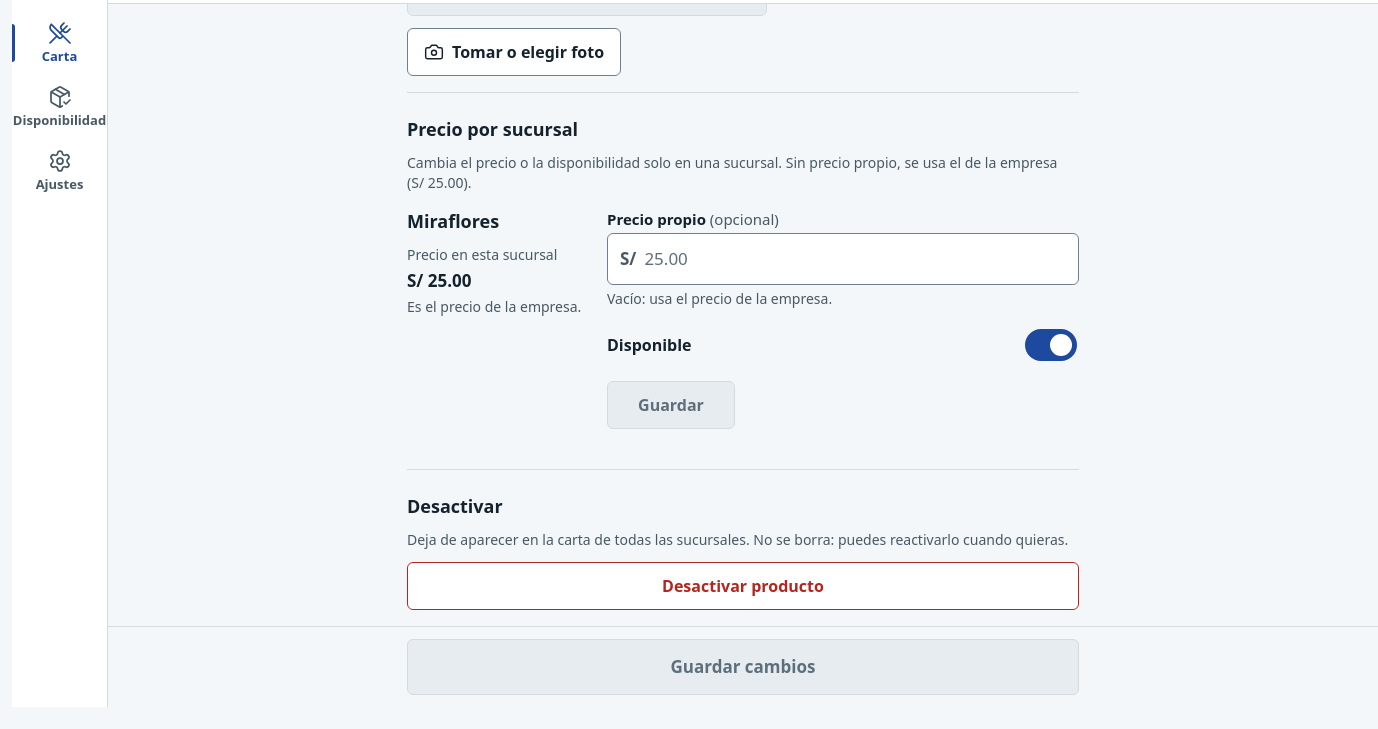
Scenario: precio por sucursal: guardar una fila › ante un corte reintenta con la misma clave de idempotencia y no repite el efecto
This screenshot has width=1378, height=729.
(page scrolled)
Click the switch at (1051, 345), box [1023,321,1079,369]
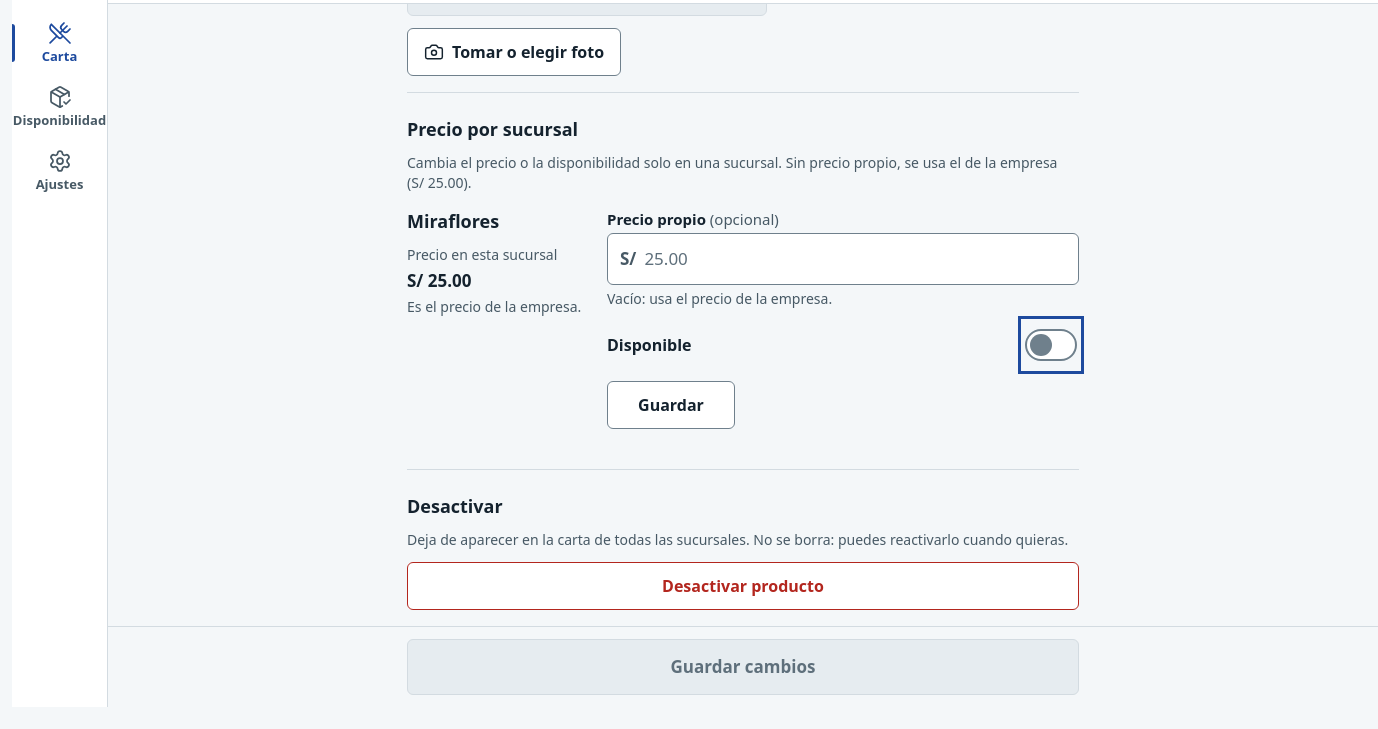
Click the button with aria-label "Guardar Miraflores" at (671, 405), box [607,381,735,429]
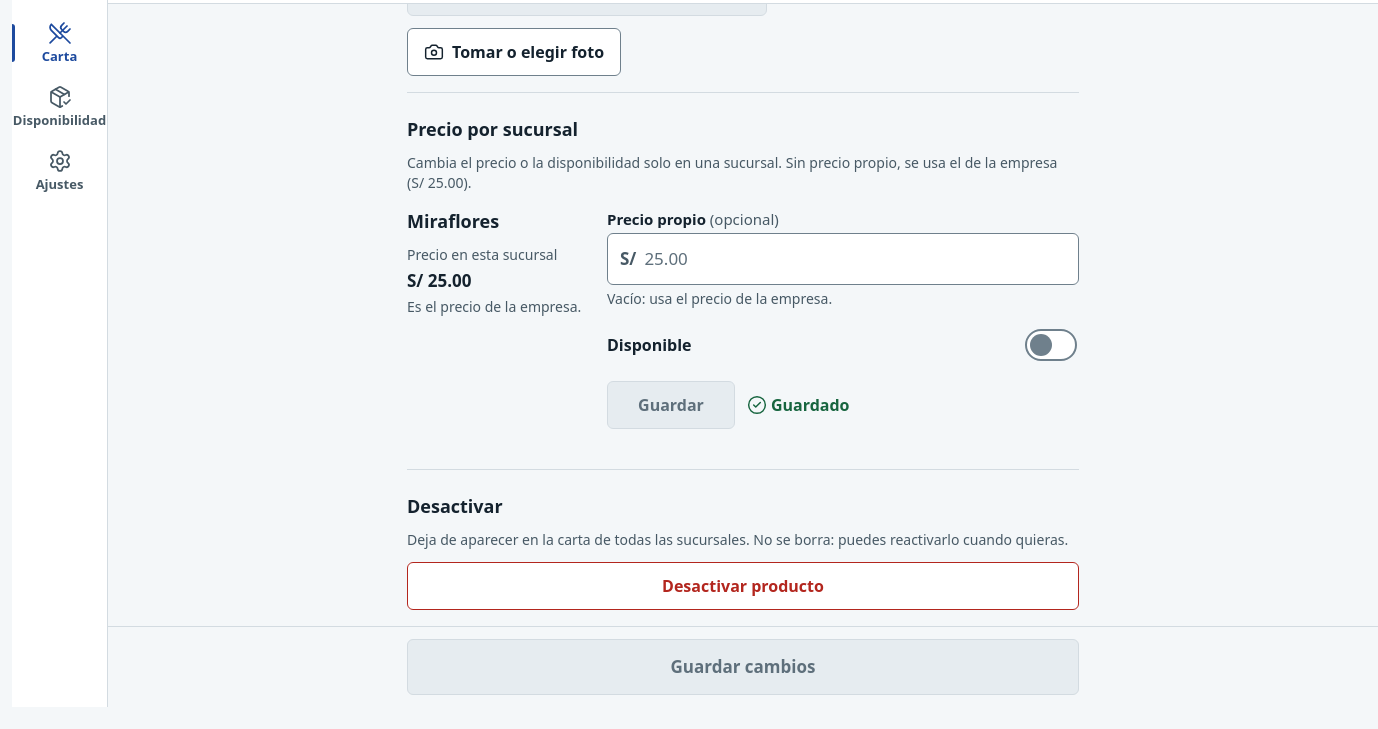
Expected: the text "Guardado" is shown, [747,393,850,417]
